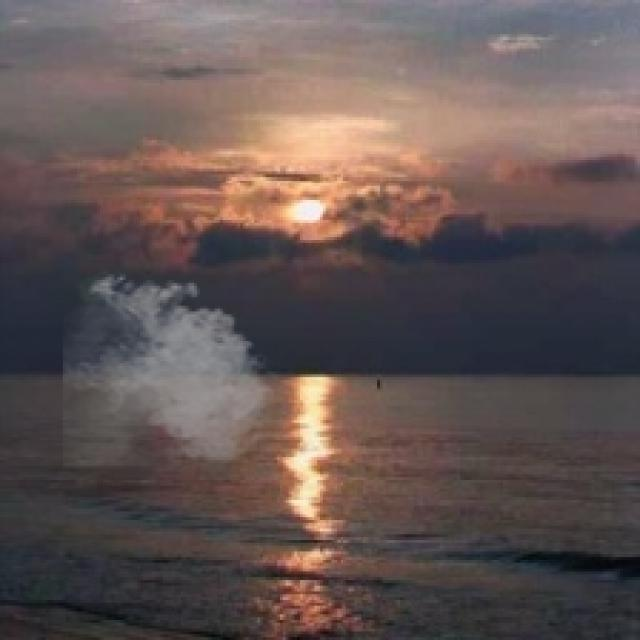smoke: (63, 268, 283, 468)
